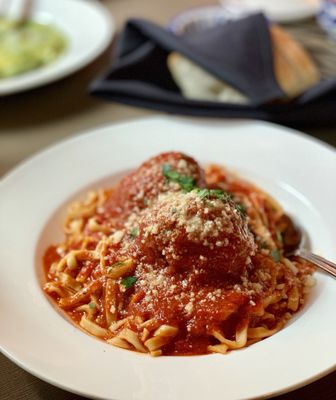curry: (1, 0, 335, 400)
